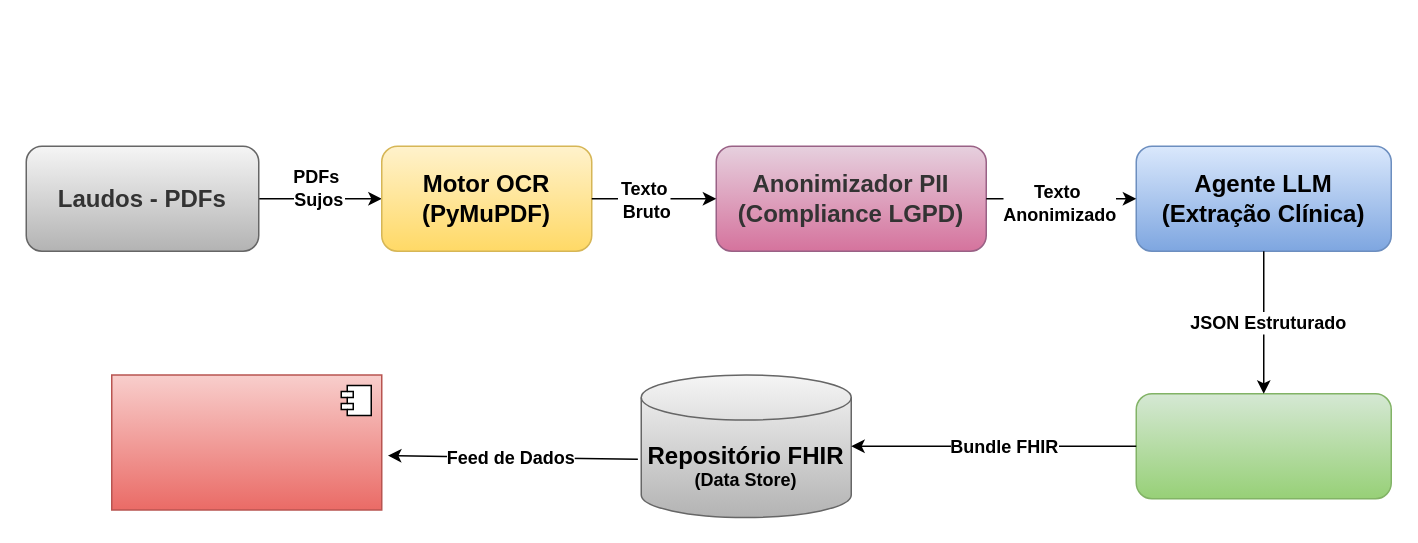
Image size: 1418x543. Some labels were removed from this diagram. The centre of each missing label's shape, as x and y in pixels:
"Mapeador HL7 FHIR (JSON)" belongs at (1263,445).
"Painel de Alerta de Risco" belongs at (246,442).
